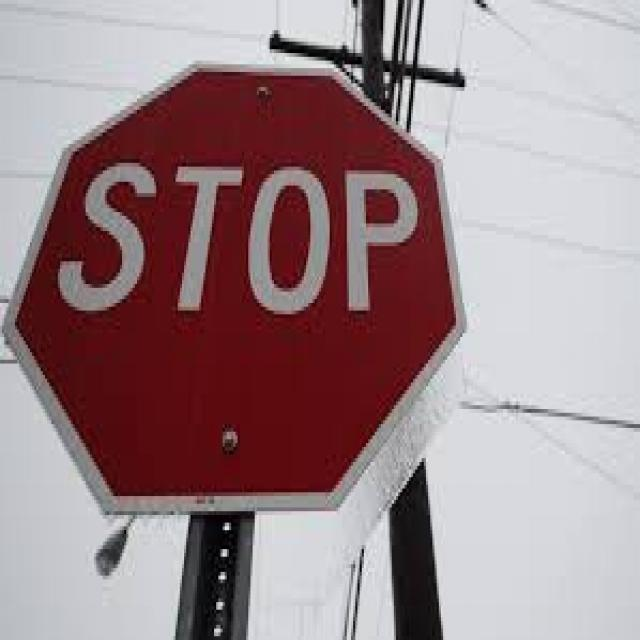stop-sign: (34, 85, 446, 452)
